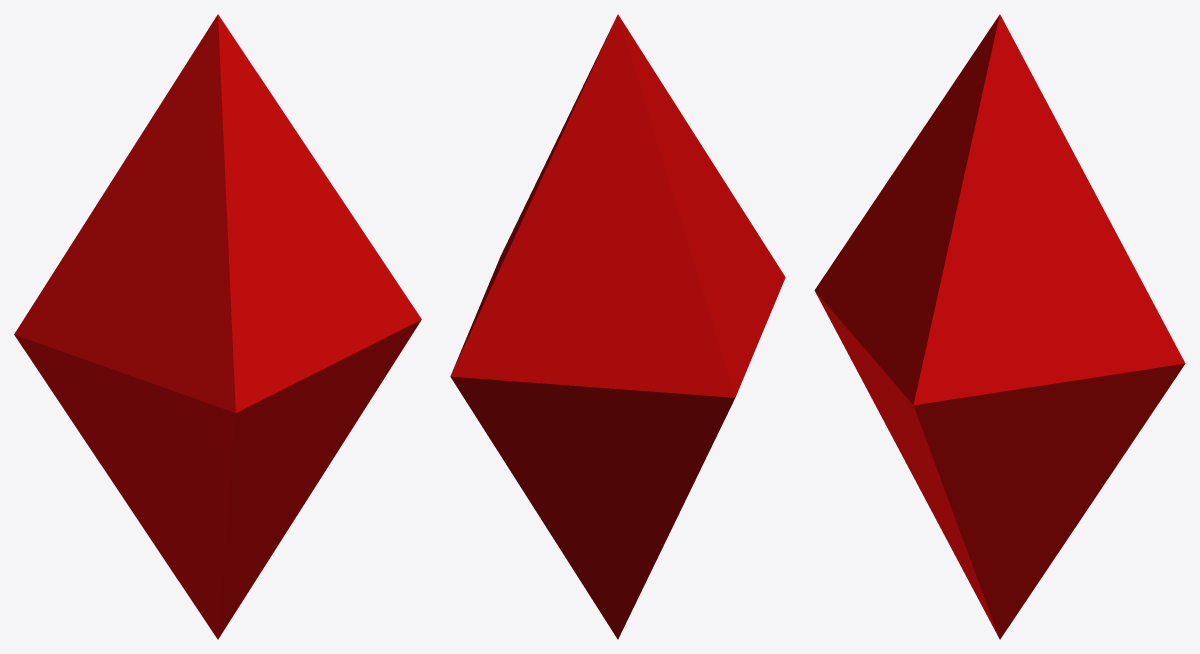
Rendered from FireGem.fbx.
The picture shows the model from 3 angles, left to right: view 1: azimuth 30°, elevation 25°; view 2: azimuth 150°, elevation 25°; view 3: azimuth 270°, elevation 25°; orthographic projection.
Visible parts, largest first — view 1: Cube.002; view 2: Cube.002; view 3: Cube.002.
Part boxes in pixels (<box>): Cube.002: <box>14,14,421,639</box>; Cube.002: <box>450,14,785,639</box>; Cube.002: <box>814,14,1185,639</box>.
Bounding box in the file's own units: 103 × 191 × 103.
